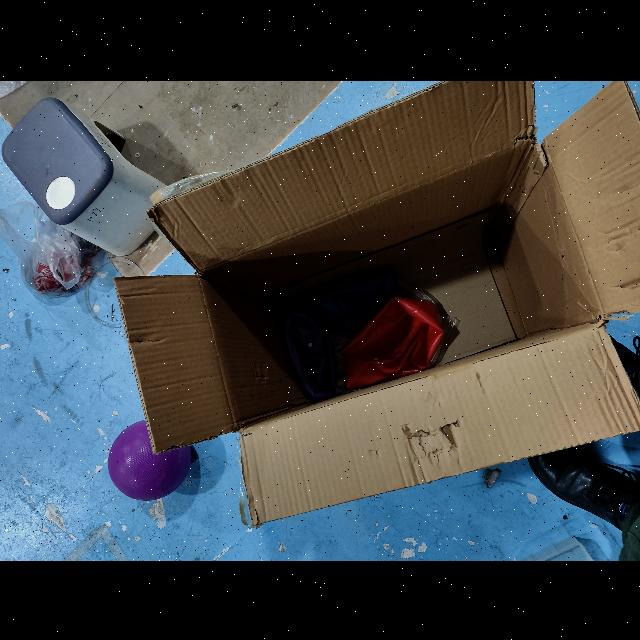P: (106, 417, 194, 499)
